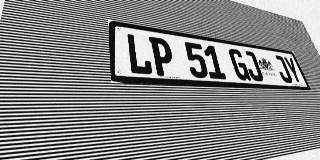1: (201, 44, 227, 79)
5: (184, 42, 210, 78)
G: (227, 48, 251, 81)
J: (241, 50, 265, 81), (272, 55, 294, 83)
L: (126, 33, 153, 75)
P: (149, 36, 176, 77)
Y: (282, 56, 304, 84)
